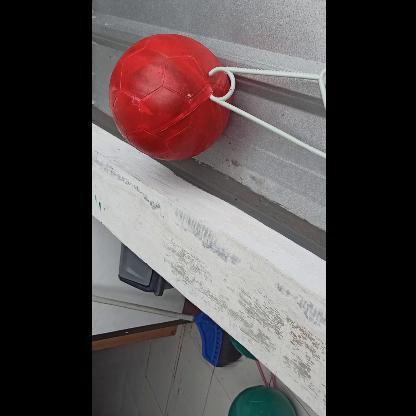red_ball: (106, 34, 230, 158)
